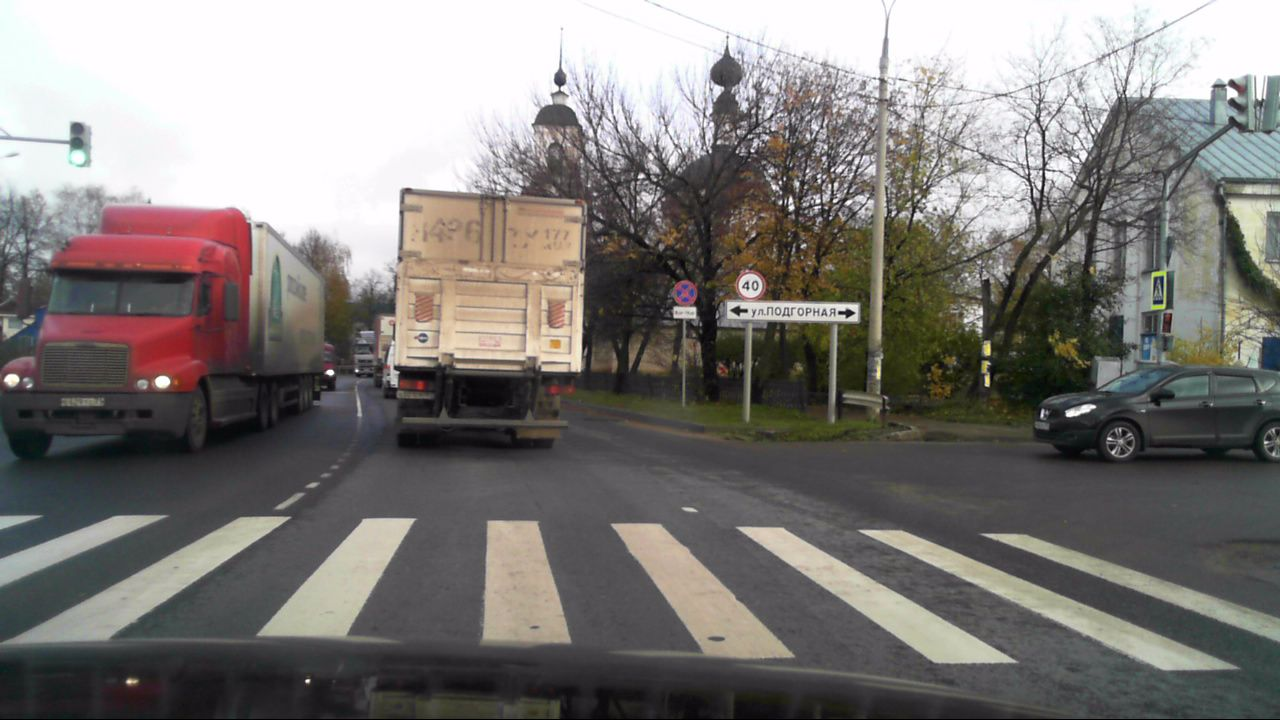No Parking: (670, 278, 698, 307)
speed_warning_40: (734, 270, 767, 302)
